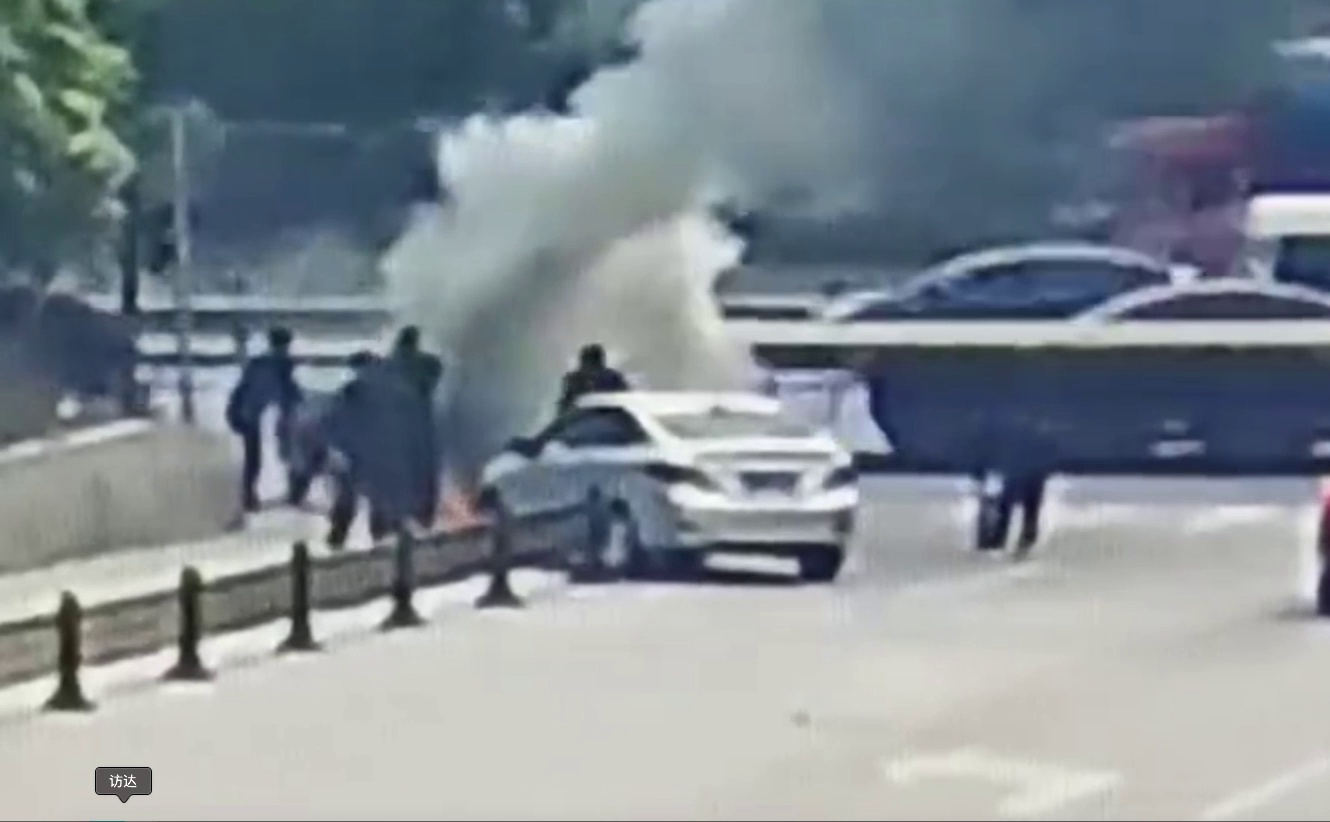smoke: (407, 40, 853, 439)
